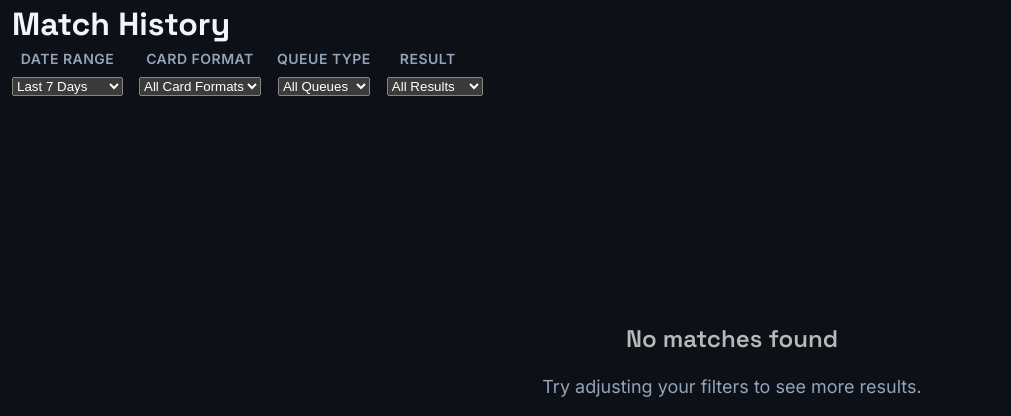
Test case: MatchHistory › Empty State › should show default empty state when all filters are set to all
// Change dateRange to 'all' (other filters are already 'all' by default)
Select "All Time" in the dropdown below "Date Range" at (68, 86), box [12, 77, 123, 96]
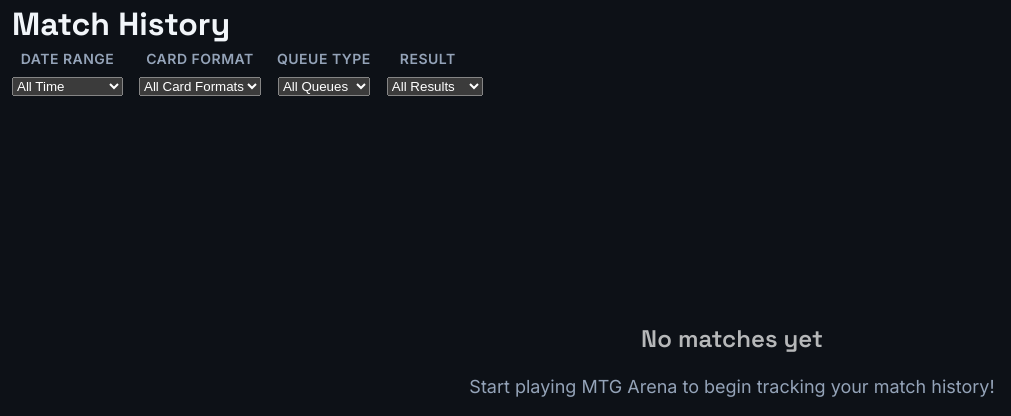
Result: the heading "No matches yet" is shown at [641, 320, 823, 356]
Result: the text "Start playing MTG Arena to begin tracking your match history!" is shown at [469, 372, 995, 400]
